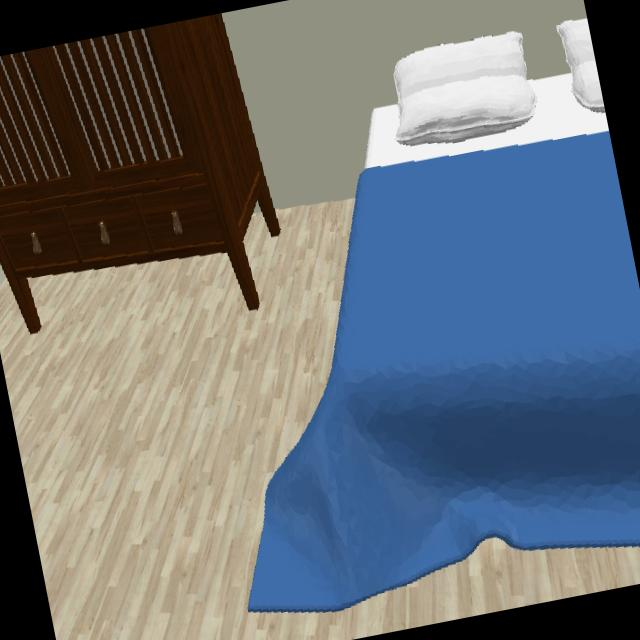bed: (248, 22, 640, 616)
pillow: (394, 33, 539, 147), (556, 18, 606, 114)
wardrobe: (0, 13, 283, 334)
